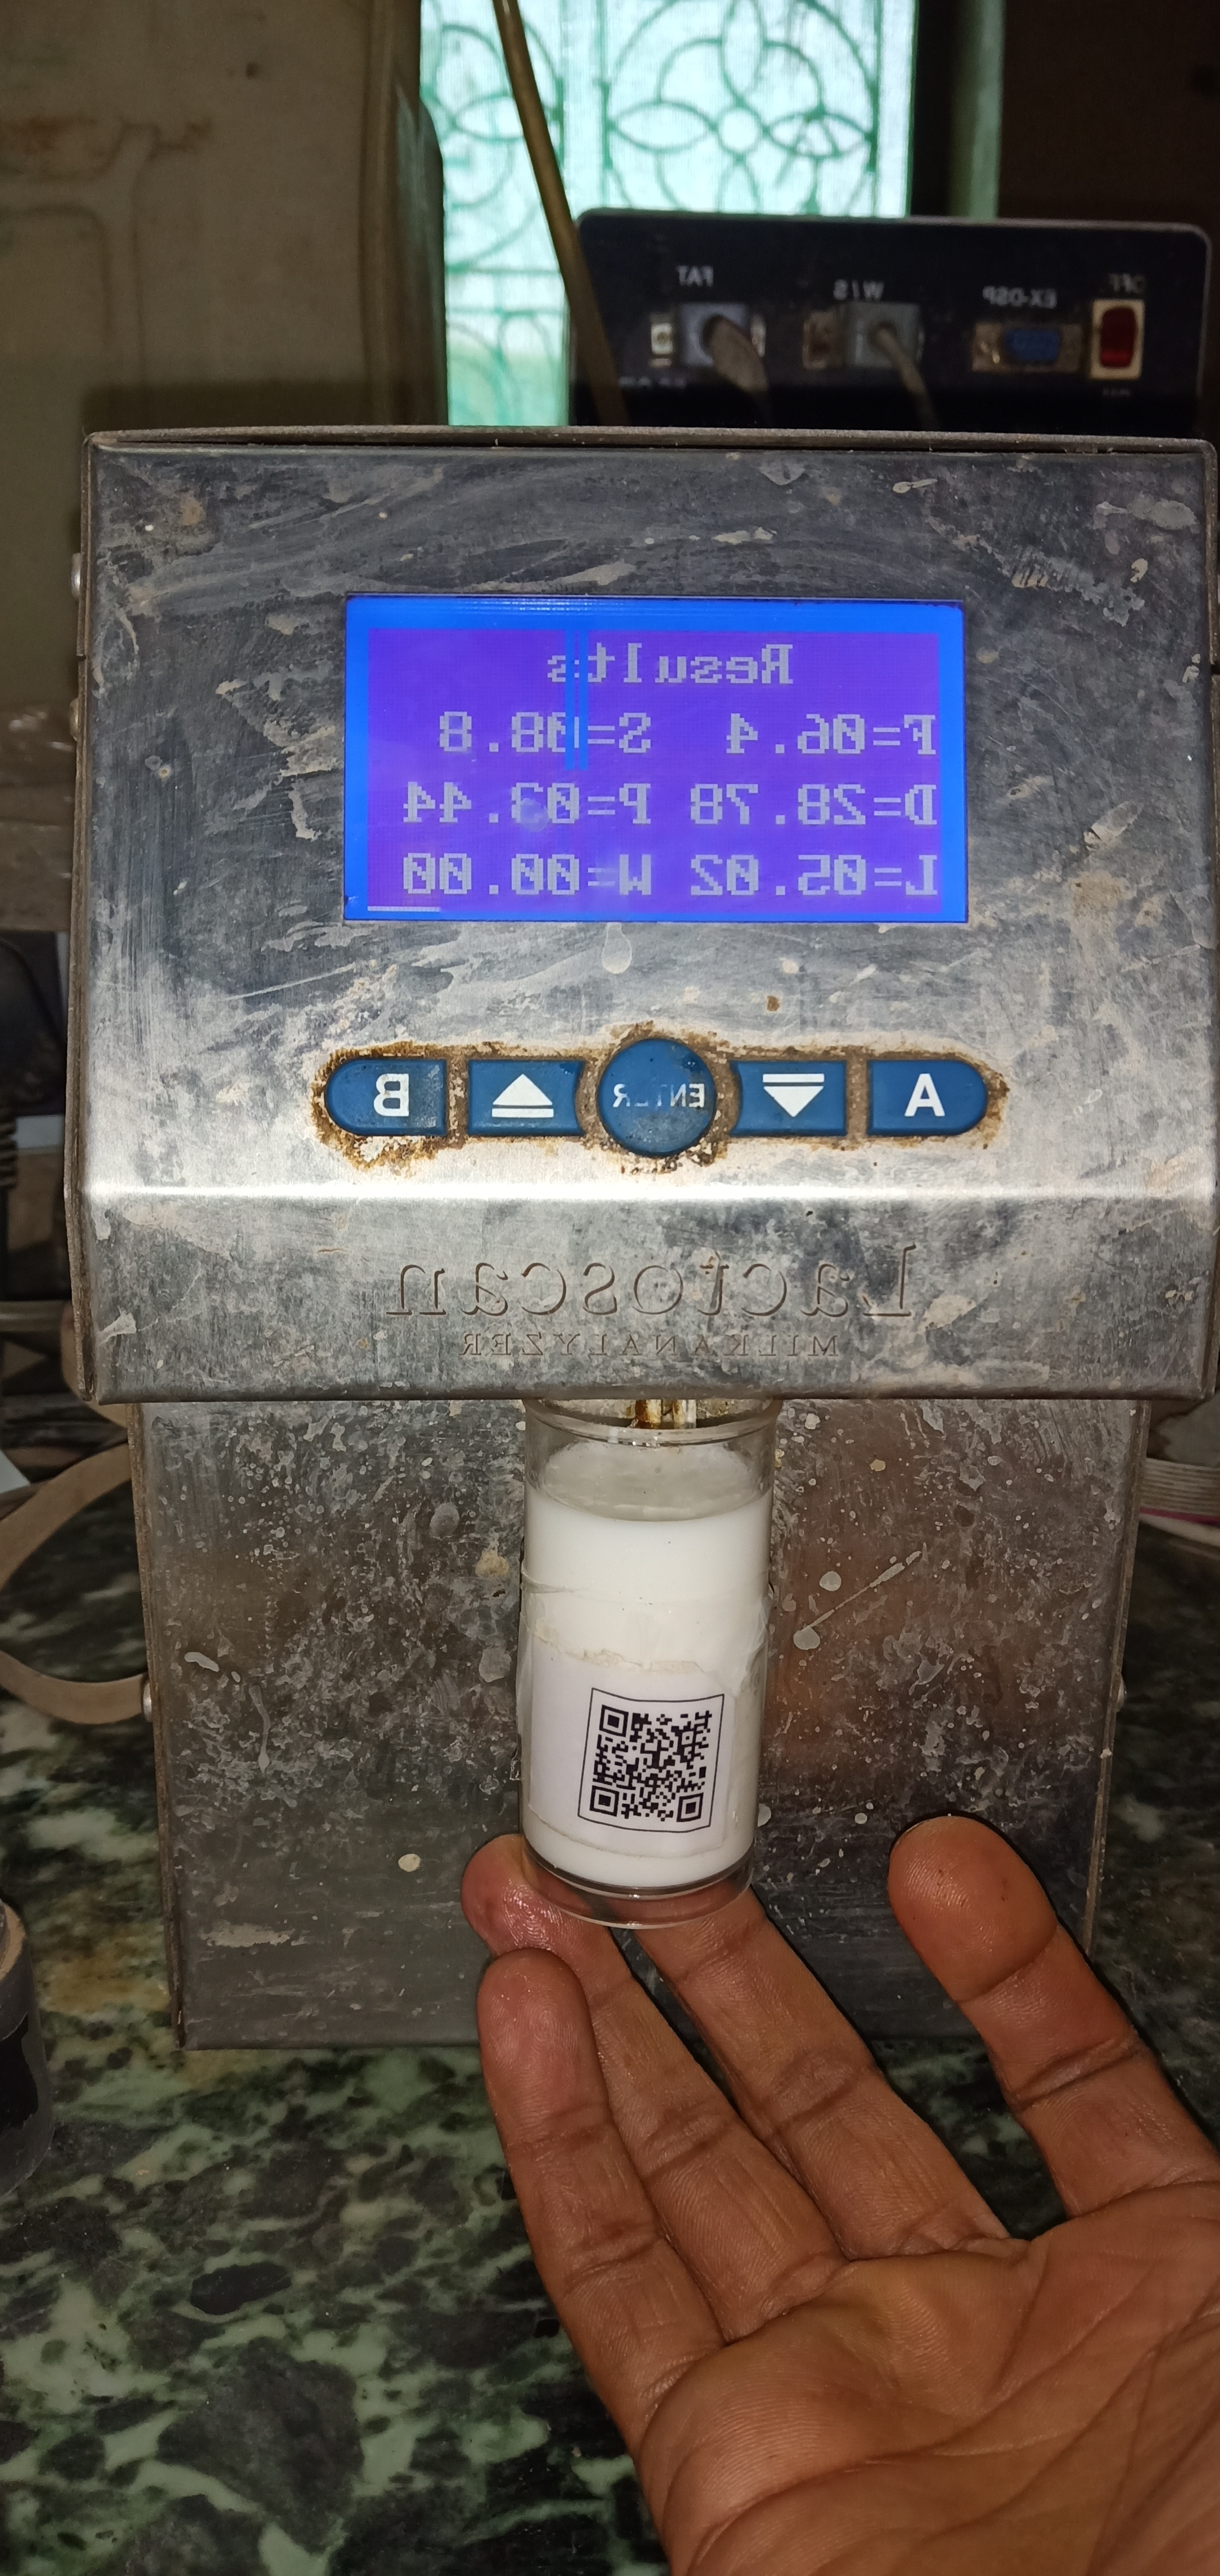lcd: (333, 570, 987, 956)
qr: (571, 1679, 737, 1856)
